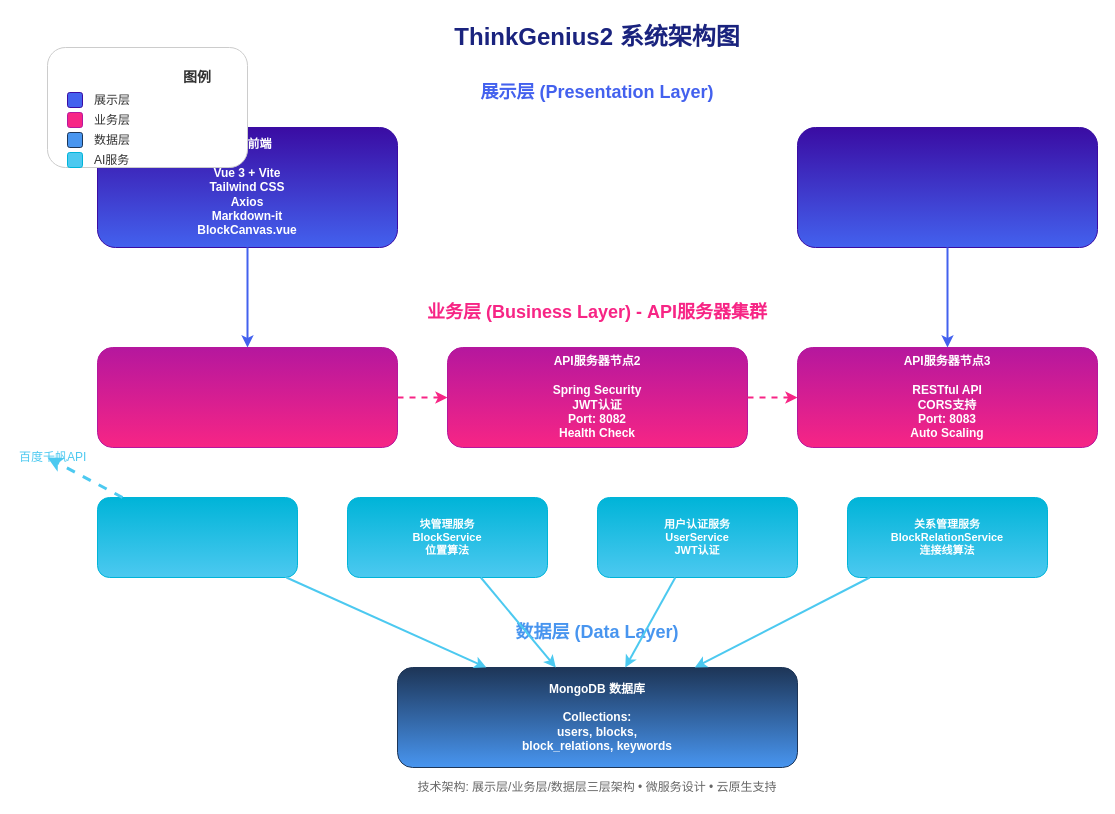
Image size: 1115x814. Some labels were removed from this diagram. Here are the shapes that lost their labels. From the top down, the centre of each, then its label:
At point 947,187: "移动端App React Native Flutter iOS/Android 响应式设计 触摸交互".
At point 247,397: "API服务器节点1 Spring Boot 3 Java 21 Port: 8081 Load Balancer".
At point 197,537: "AI服务 百度千帆API 关键词生成".
